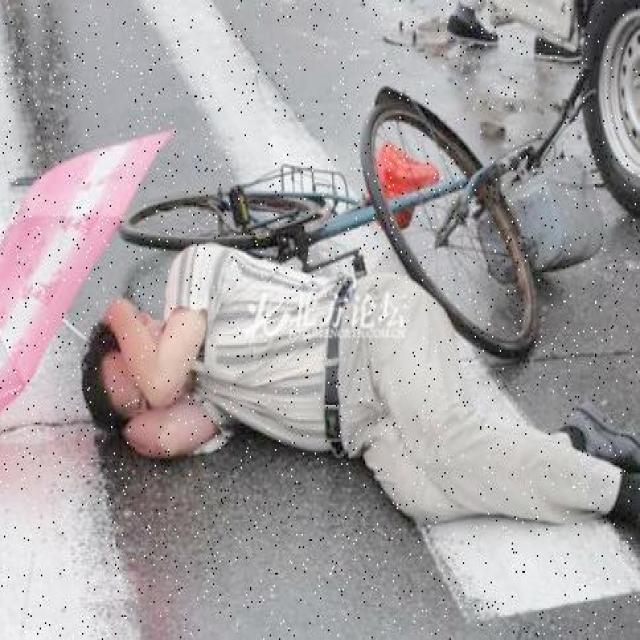fall: (87, 248, 623, 542)
